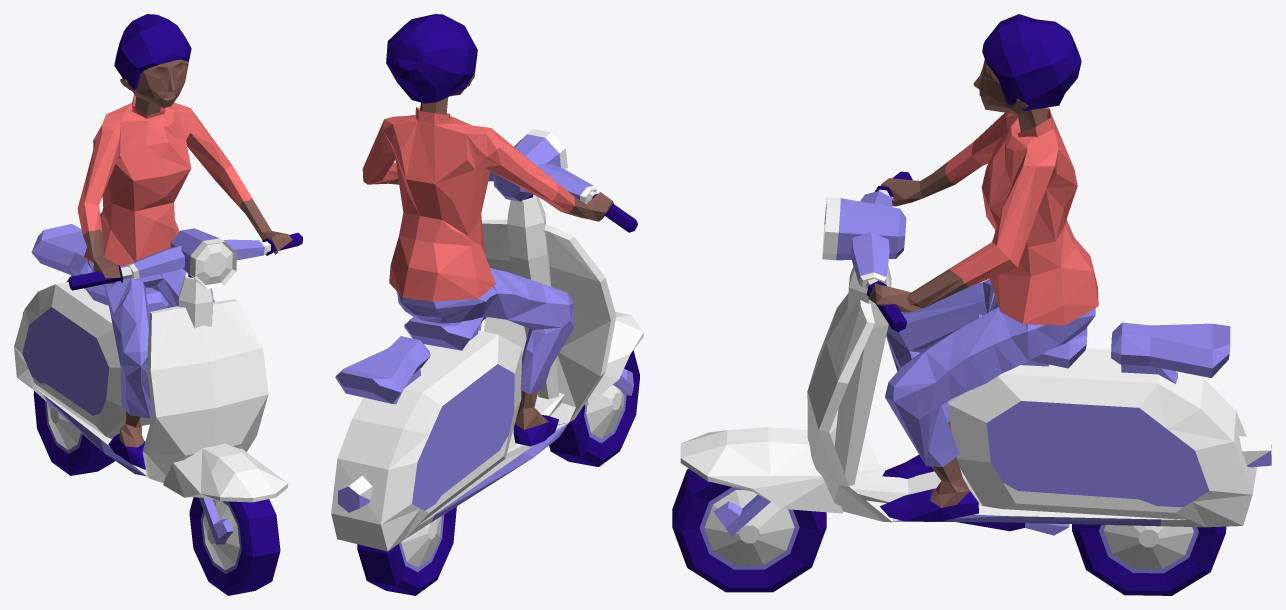
File: scooter.glb
3 renders of one model, left to right at view 1: azimuth 30°, elevation 25°; view 2: azimuth 150°, elevation 25°; view 3: azimuth 270°, elevation 25°, orthographic. The views are drawn at different scales.
Parts seen in each view (by area): view 1: group861611824; view 2: group861611824; view 3: group861611824.
Part boxes in pixels (x1,y1,x2,y2): group861611824: (14, 14, 302, 595); group861611824: (331, 14, 643, 595); group861611824: (672, 14, 1271, 595).
Size of the model in its own units: 1.1 by 2.18 by 2.02.
